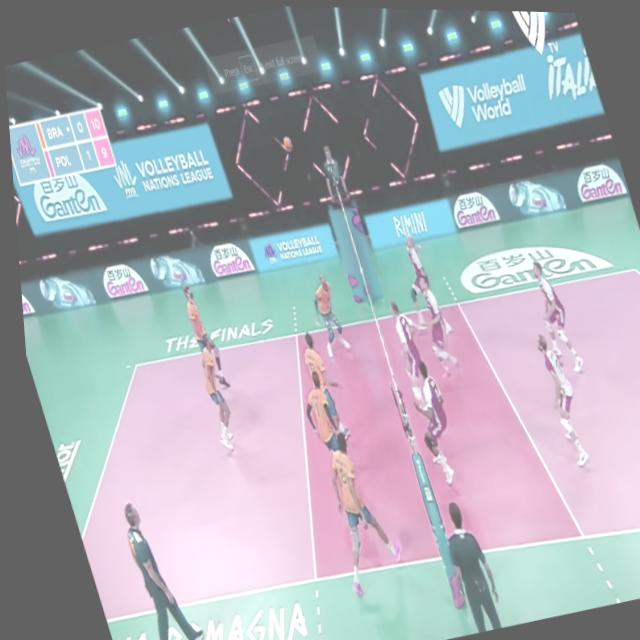player: (299, 423, 403, 592), (523, 323, 591, 474), (397, 356, 462, 485), (521, 253, 584, 374), (186, 330, 242, 456), (287, 369, 348, 484), (173, 280, 226, 396), (392, 227, 444, 334), (381, 297, 430, 410), (406, 269, 458, 373), (291, 323, 346, 415), (298, 261, 345, 352)
